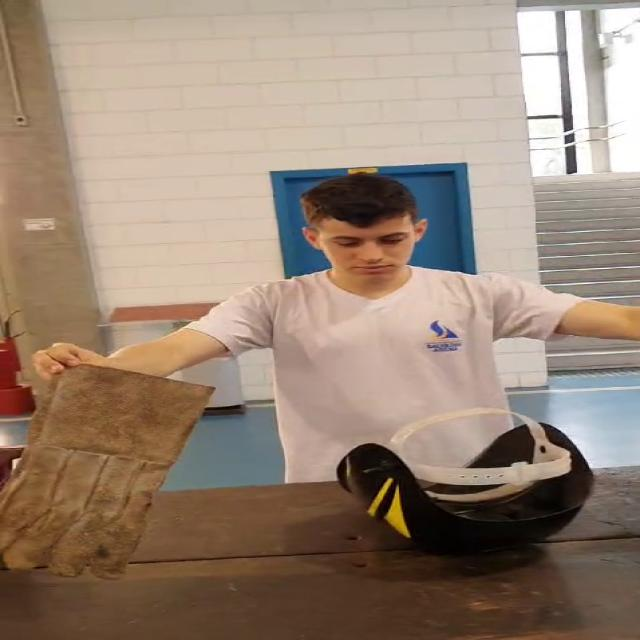sem_oculos: (294, 230, 428, 253)
